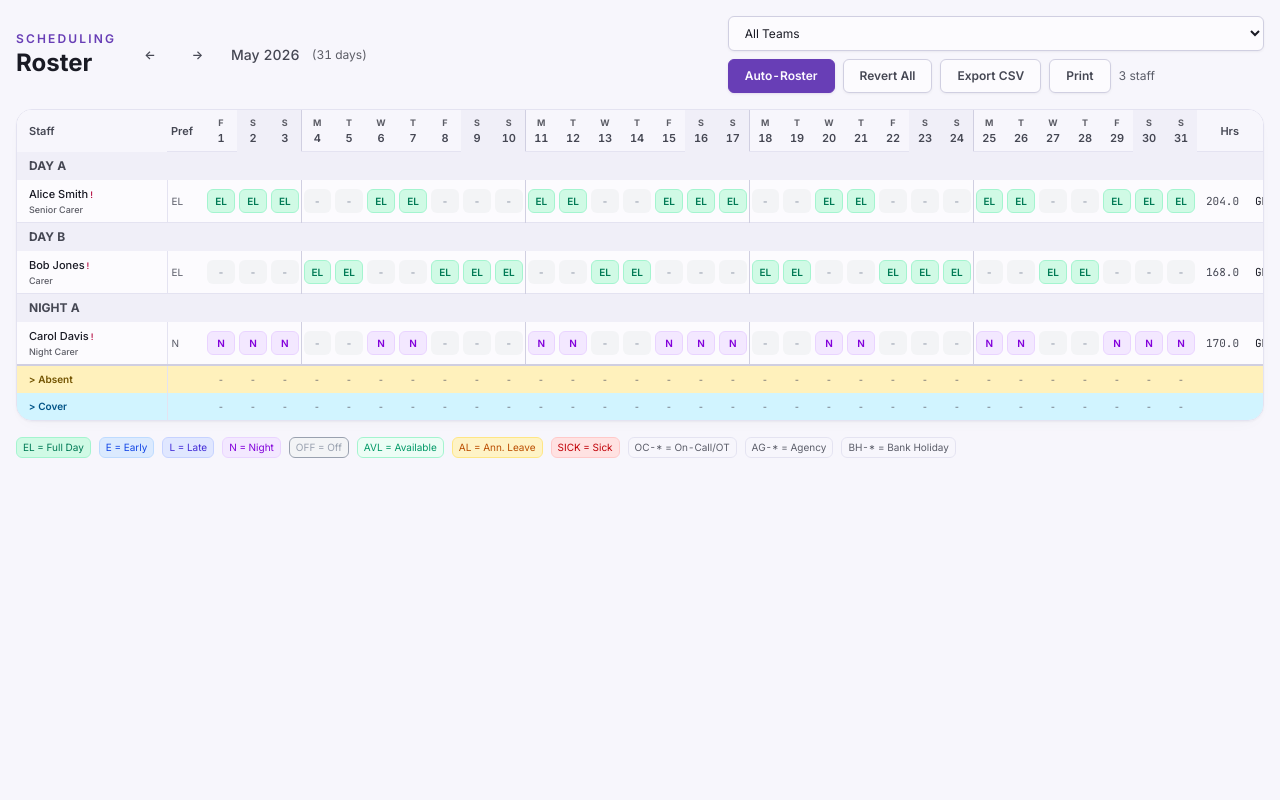
Test: RotationGrid › clicking a shift cell opens the shift editor modal for admin
The image size is (1280, 800).
Expected: the text "Alice Smith" is shown, x1=29 y1=187 x2=88 y2=201
Click the 1st button "EL" at (221, 201), box x1=207 y1=189 x2=235 y2=213
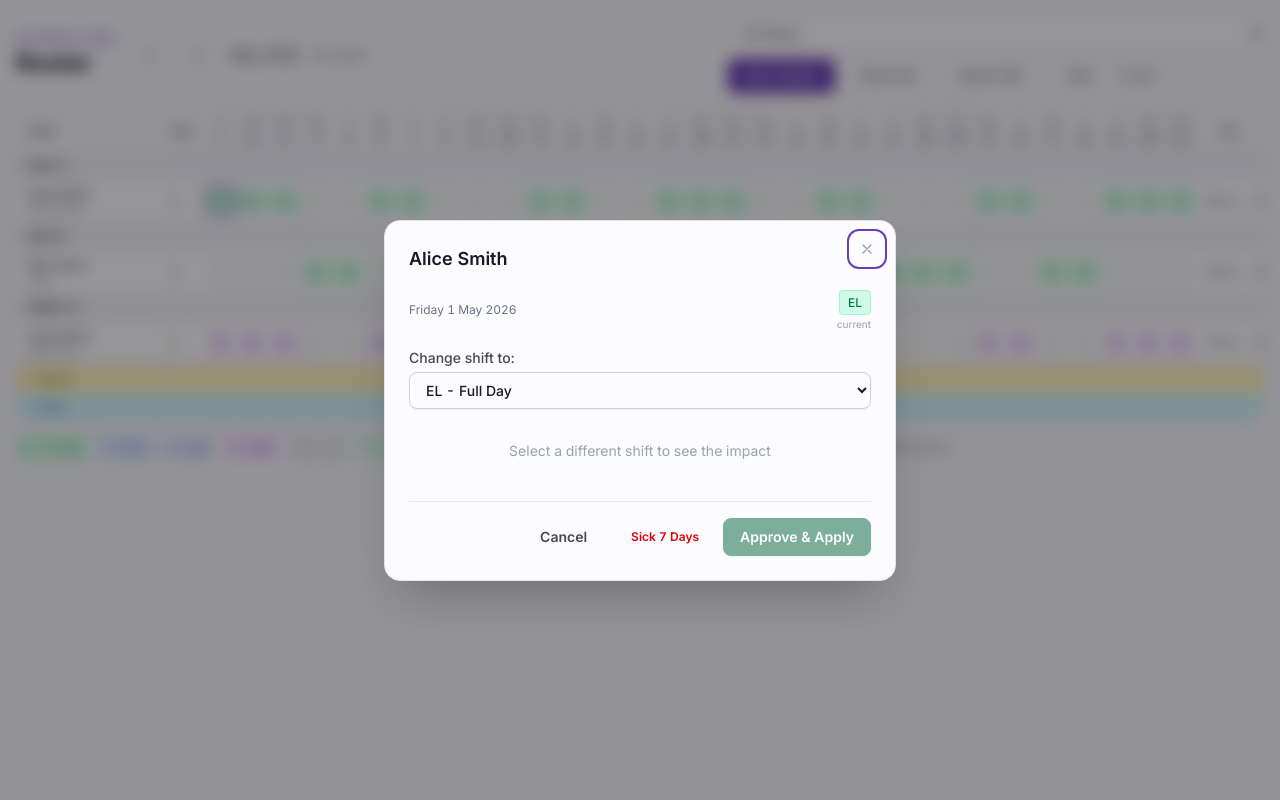
Expected: the dialog is shown
Expected: the text "Change shift to:" is shown, x1=409 y1=348 x2=514 y2=366
